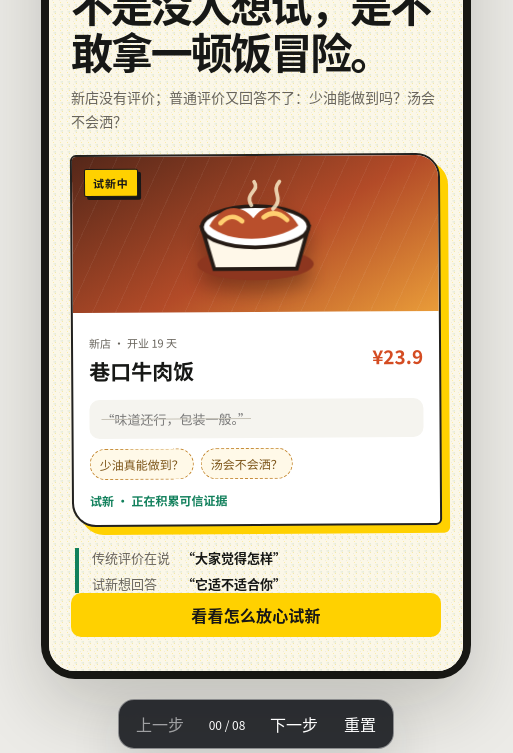
legacy trial demo opening flow › turns natural language into editable needs and three recommendations
(page scrolled)
Click the button "看看怎么放心试新". click: (256,615)
box: [71,593,441,637]
(page scrolled)
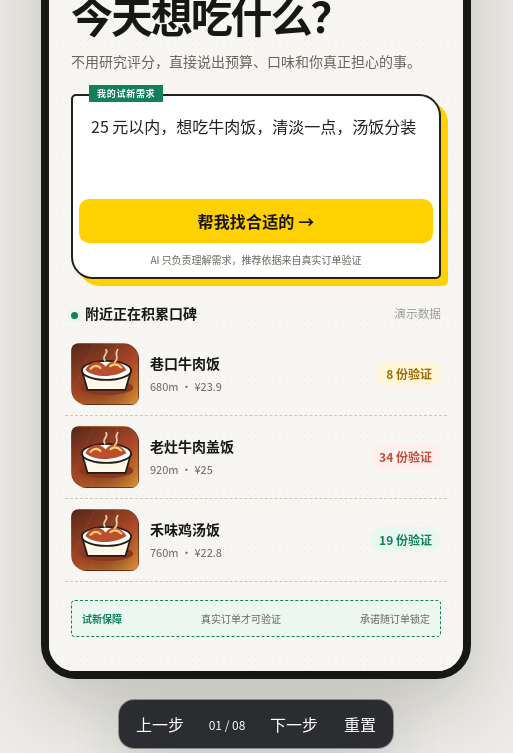
Click the button "帮我找合适的 →". click: (256,221)
box: [79,199,433,243]
(page scrolled)
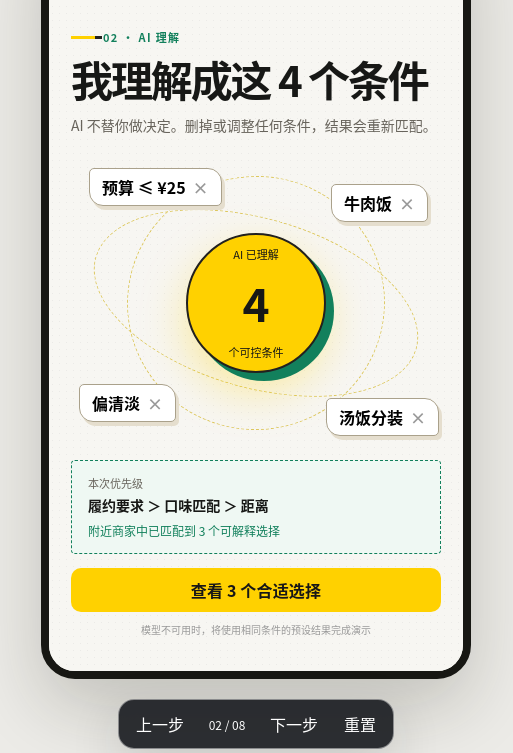
Result: the heading "我理解成这 4 个条件" is shown at [71,55,436,102]
Click the button "查看 3 个合适选择". click: (256,590)
box: [71,568,441,612]
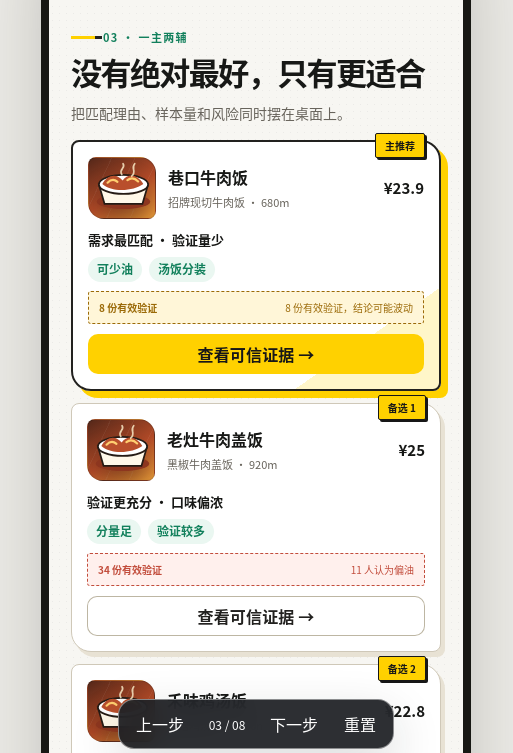
Result: the heading "没有绝对最好，只有更适合" is shown at [71,55,436,90]
